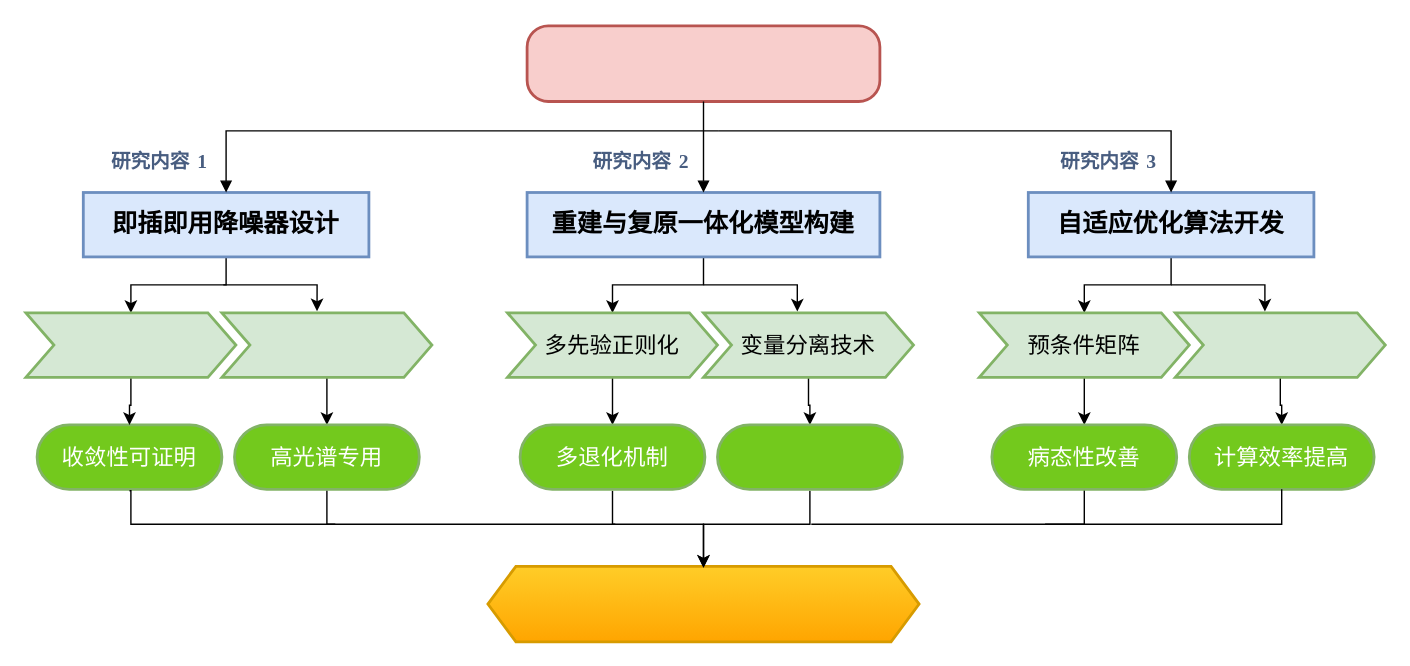
Some shapes in this 1410 by 666 pixel diagram are drawn without their labels. Each missing label, with the box of its shape:
可证明收敛的即插即用框架: (486, 564, 920, 643)
模型可解释: (715, 423, 903, 490)
空间光谱特性: (220, 311, 433, 378)
自适应步长: (1173, 311, 1386, 378)
近端算子理论: (24, 311, 237, 378)
高光谱图像重建与复原: (525, 24, 881, 102)
